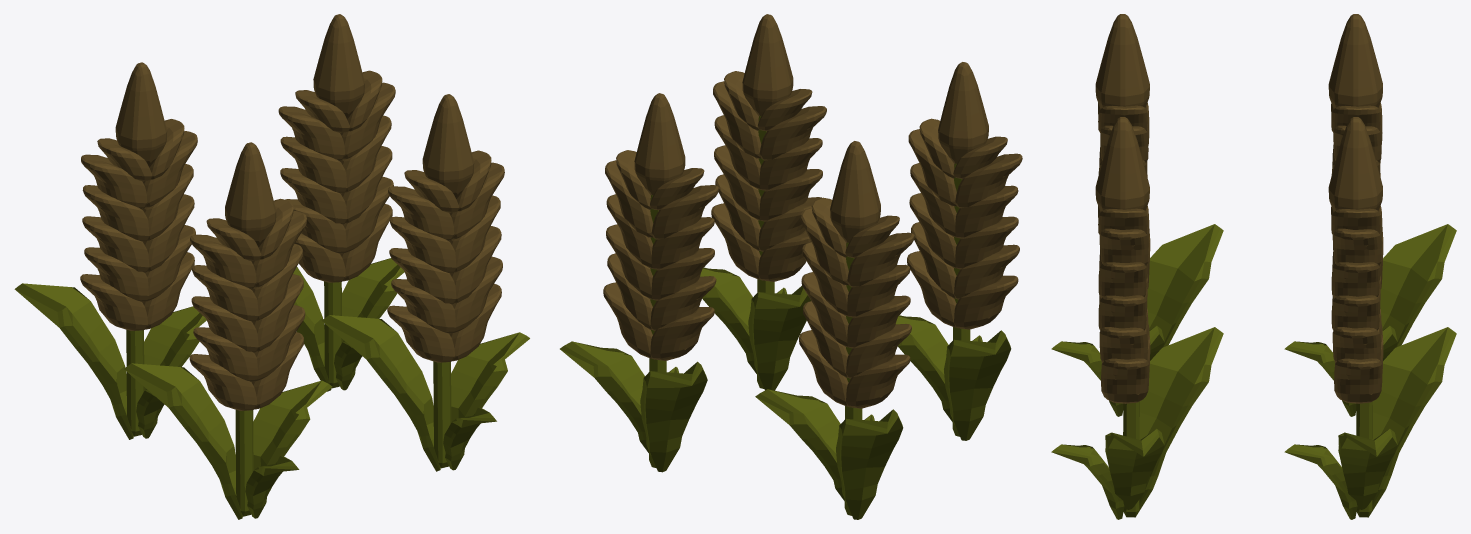
Rendered from Rice plant 2.fbx.
3 renders of one model, left to right at view 1: azimuth 30°, elevation 25°; view 2: azimuth 150°, elevation 25°; view 3: azimuth 270°, elevation 25°, orthographic. The views are drawn at different scales.
Visible parts, largest first — view 1: Cube.015, Cube.001, Cube.006, Cube.014, Cube.003, Cube.008, Cube.012, Cube.007, Cube.002, Cube.017, Cube.010, Cube.016 (+4 smaller); view 2: Cube.006, Cube.014, Cube.015, Cube.001, Cube.017, Cube.008, Cube.012, Cube.003, Cube.010, Cube.016, Cube.002, Cube.007; view 3: Cube.001, Cube.014, Cube.003, Cube.017, Cube.012, Cube.008, Cube.015, Cube.006, Cube.002, Cube.016, Cube.004, Cube.018.
Part boxes in pixels (x1=…): Cube.015: x1=189, y1=142, x2=306, y2=410; Cube.001: x1=387, y1=94, x2=504, y2=362; Cube.006: x1=80, y1=62, x2=197, y2=330; Cube.014: x1=278, y1=14, x2=395, y2=282; Cube.003: x1=321, y1=315, x2=496, y2=471; Cube.008: x1=124, y1=363, x2=299, y2=519; Cube.012: x1=14, y1=283, x2=164, y2=439; Cube.007: x1=253, y1=380, x2=332, y2=470; Cube.002: x1=451, y1=332, x2=529, y2=422; Cube.017: x1=216, y1=237, x2=362, y2=391; Cube.010: x1=144, y1=306, x2=206, y2=390; Cube.016: x1=342, y1=258, x2=404, y2=341; Cube.006: x1=799, y1=141, x2=914, y2=408; Cube.014: x1=603, y1=93, x2=718, y2=360; Cube.015: x1=907, y1=62, x2=1022, y2=329; Cube.001: x1=711, y1=14, x2=826, y2=281; Cube.017: x1=640, y1=361, x2=707, y2=472; Cube.008: x1=944, y1=330, x2=1011, y2=440; Cube.012: x1=836, y1=409, x2=903, y2=519; Cube.003: x1=748, y1=286, x2=810, y2=390; Cube.010: x1=755, y1=389, x2=844, y2=500; Cube.016: x1=560, y1=341, x2=648, y2=452; Cube.002: x1=700, y1=267, x2=756, y2=373; Cube.007: x1=895, y1=315, x2=952, y2=421; Cube.001: x1=1095, y1=117, x2=1150, y2=403; Cube.014: x1=1328, y1=117, x2=1383, y2=403; Cube.003: x1=1051, y1=327, x2=1223, y2=519; Cube.017: x1=1284, y1=327, x2=1456, y2=519; Cube.012: x1=1284, y1=224, x2=1456, y2=416; Cube.008: x1=1051, y1=224, x2=1223, y2=416; Cube.015: x1=1095, y1=14, x2=1150, y2=288; Cube.006: x1=1328, y1=14, x2=1383, y2=288; Cube.002: x1=1105, y1=429, x2=1164, y2=509; Cube.016: x1=1338, y1=429, x2=1397, y2=509; Cube.004: x1=1123, y1=401, x2=1139, y2=517; Cube.018: x1=1356, y1=401, x2=1372, y2=517.
Size of the model in its own units: 1575 by 1534 by 1404.
